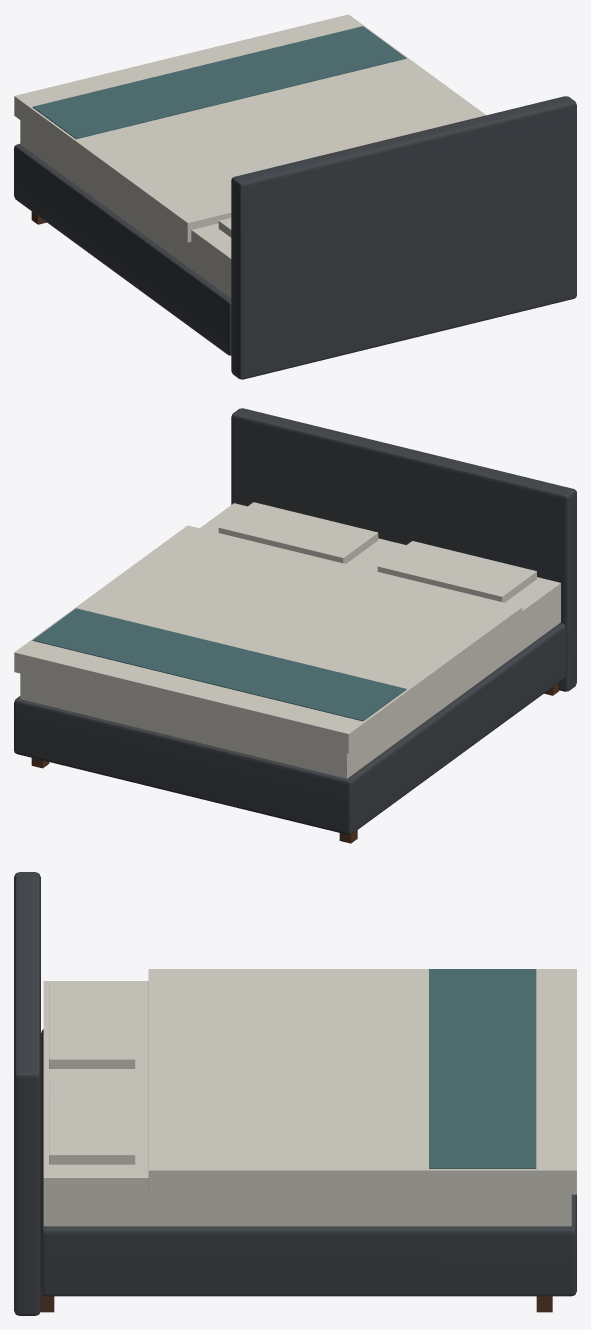
File: prop_bed_queen.glb
3 views of the same model, one above another, from view 1: azimuth 30°, elevation 25°; view 2: azimuth 150°, elevation 25°; view 3: azimuth 270°, elevation 25° (orthographic). The views are drawn at different scales.
Visible parts, largest first — view 1: Bed; view 2: Bed; view 3: Bed.
Boxes of the visible parts, <box> form: Bed: <box>14,14,576,379</box>; Bed: <box>14,408,576,843</box>; Bed: <box>14,872,576,1315</box>.
Size of what is drawn, in the model's own units: 1.79 by 1 by 2.09.
